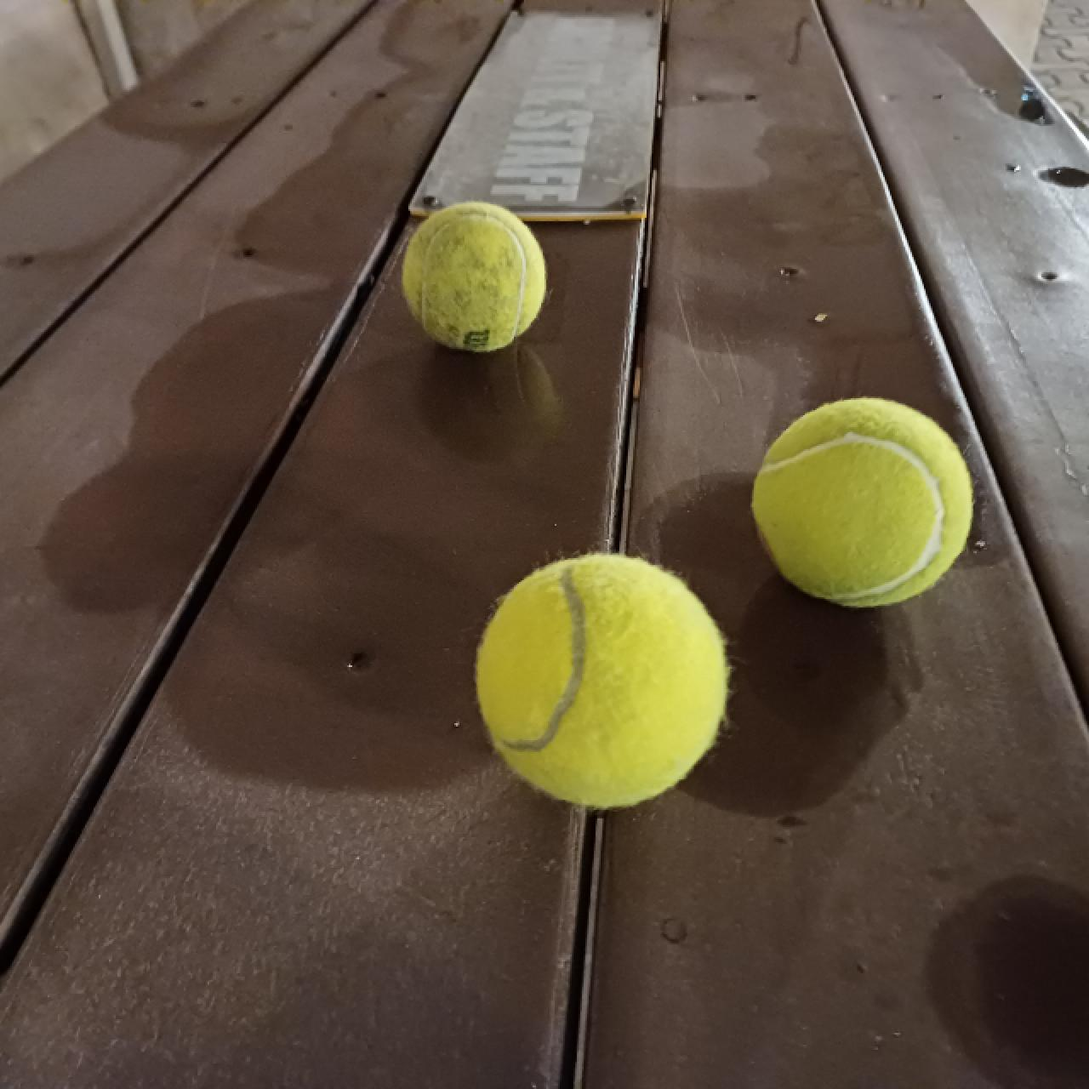tennis-ball: (478, 554, 730, 809), (750, 396, 973, 605), (402, 200, 545, 351)
